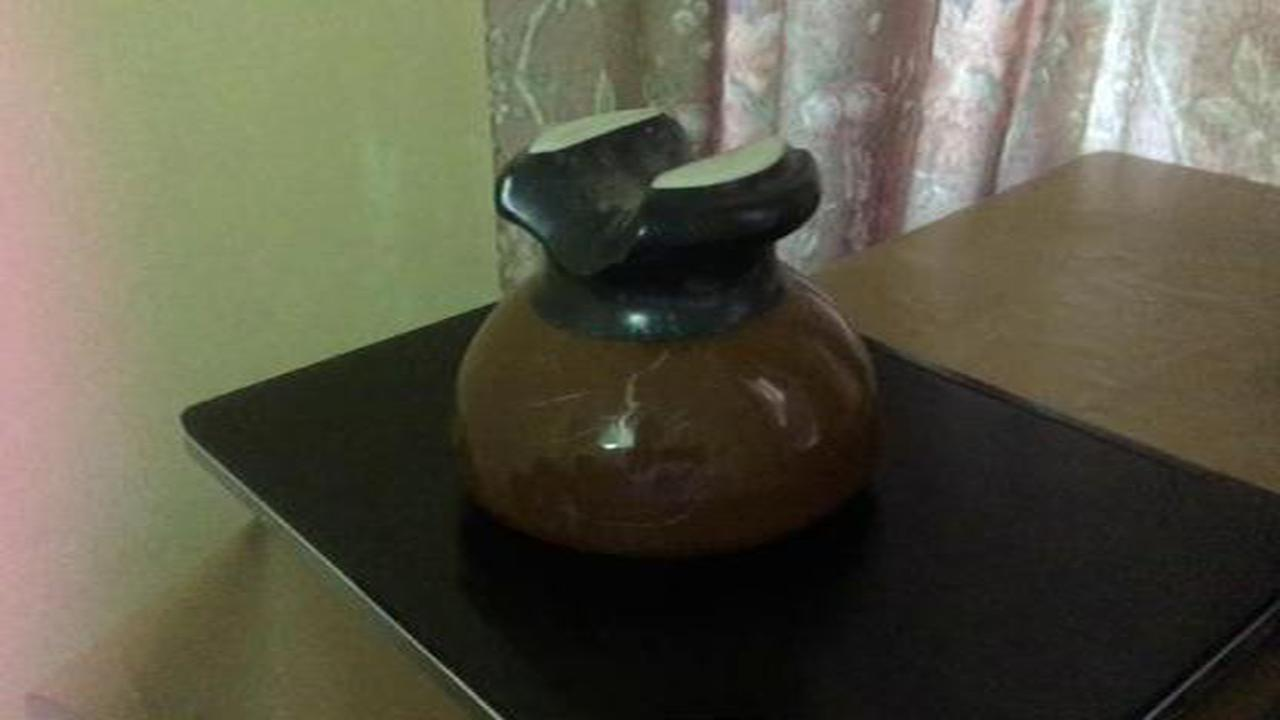insulator_pin: (437, 89, 908, 582)
